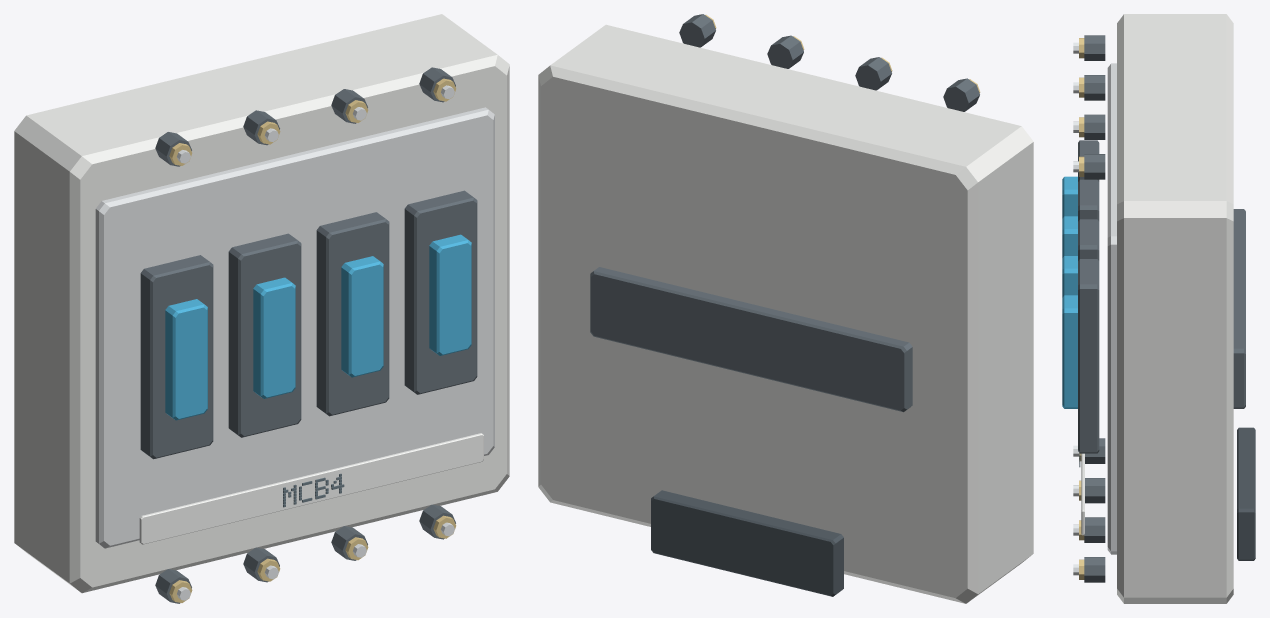
Rendered from mcb4P.glb.
3 views of the same model, side by side, from view 1: azimuth 30°, elevation 25°; view 2: azimuth 150°, elevation 25°; view 3: azimuth 270°, elevation 25° (orthographic). The views are drawn at different scales.
Parts seen in each view (by area): view 1: mcb4P-board; view 2: mcb4P-board; view 3: mcb4P-board.
Part boxes in pixels (<box>): mcb4P-board: <box>14,14,509,603</box>; mcb4P-board: <box>538,14,1033,603</box>; mcb4P-board: <box>1062,14,1255,603</box>.
Size of the model in its own units: 3.29 by 3.32 by 1.36.
